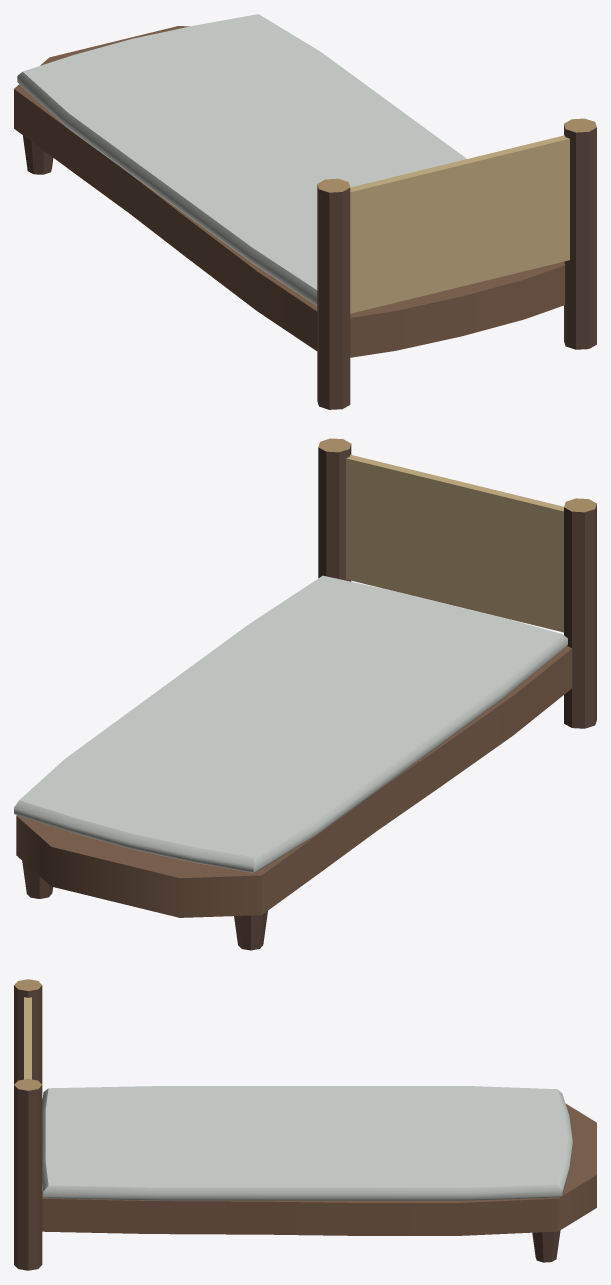
The model's file is atoll_Bed_Plain.fbx.
3 renders of one model, top to bottom at view 1: azimuth 30°, elevation 25°; view 2: azimuth 150°, elevation 25°; view 3: azimuth 270°, elevation 25°, orthographic. The views are drawn at different scales.
Parts seen in each view (by area): view 1: Mattress, Headboard, Base, Post2, Post3, Leg2; view 2: Mattress, Headboard, Base, Post2, Post3, Leg2; view 3: Mattress, Base, Post3, Post2, Leg1, Headboard.
Part boxes in pixels (x1,y1,x2,y2): Mattress: [17, 14, 466, 305]; Headboard: [350, 135, 569, 313]; Base: [14, 26, 564, 357]; Post2: [317, 178, 350, 409]; Post3: [564, 118, 596, 349]; Leg2: [23, 135, 53, 174]; Mattress: [14, 575, 567, 872]; Headboard: [346, 454, 563, 632]; Base: [16, 646, 572, 917]; Post2: [564, 498, 596, 728]; Post3: [318, 438, 351, 581]; Leg2: [234, 911, 267, 950]; Mattress: [42, 1086, 572, 1200]; Base: [42, 1099, 596, 1235]; Post3: [14, 1079, 42, 1270]; Post2: [14, 979, 42, 1084]; Leg1: [532, 1230, 560, 1262]; Headboard: [24, 997, 31, 1079].
Size of the model in its own units: 227 by 171 by 501.
